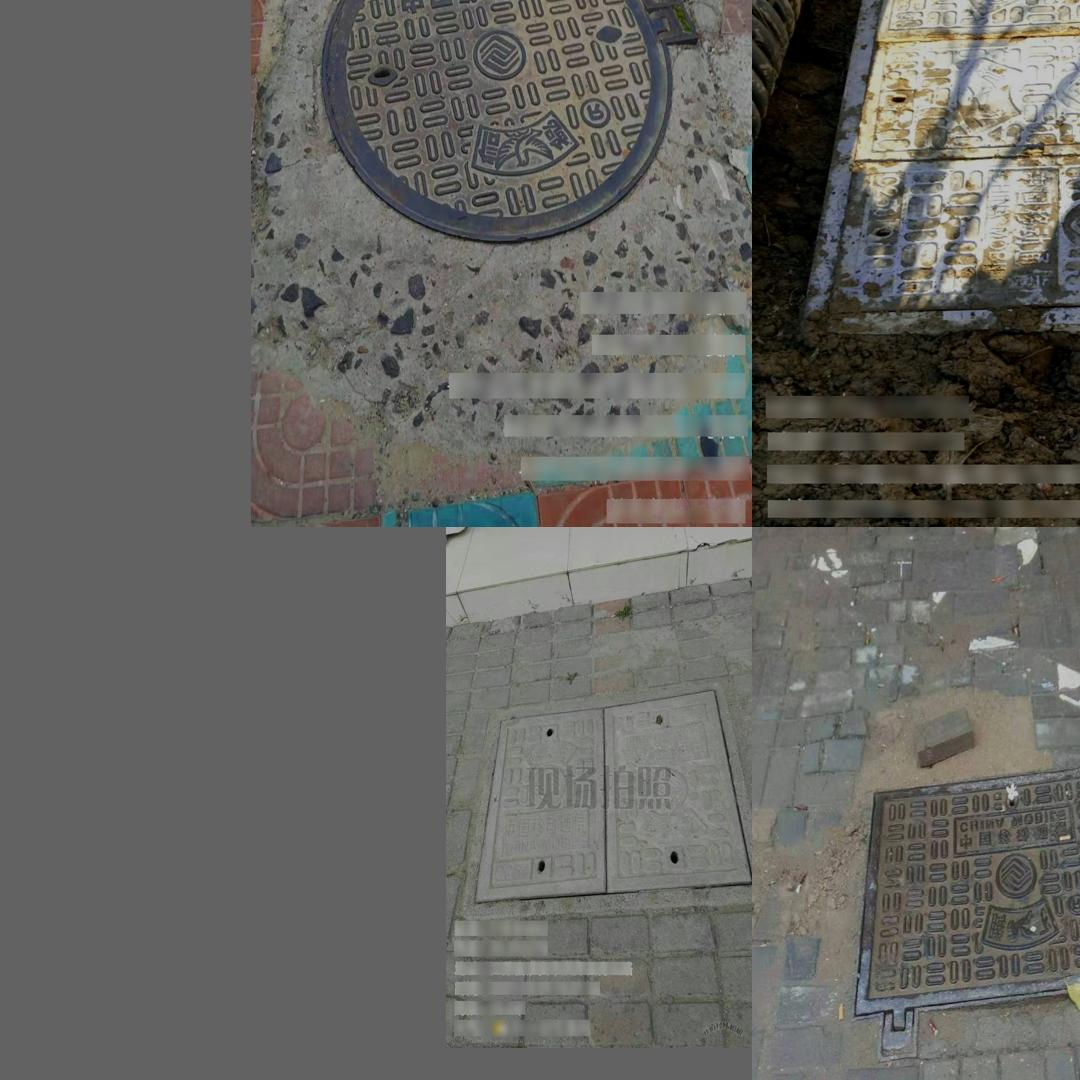good: (319, 0, 698, 243), (460, 681, 752, 919), (867, 0, 1080, 313), (861, 751, 1080, 1025)
